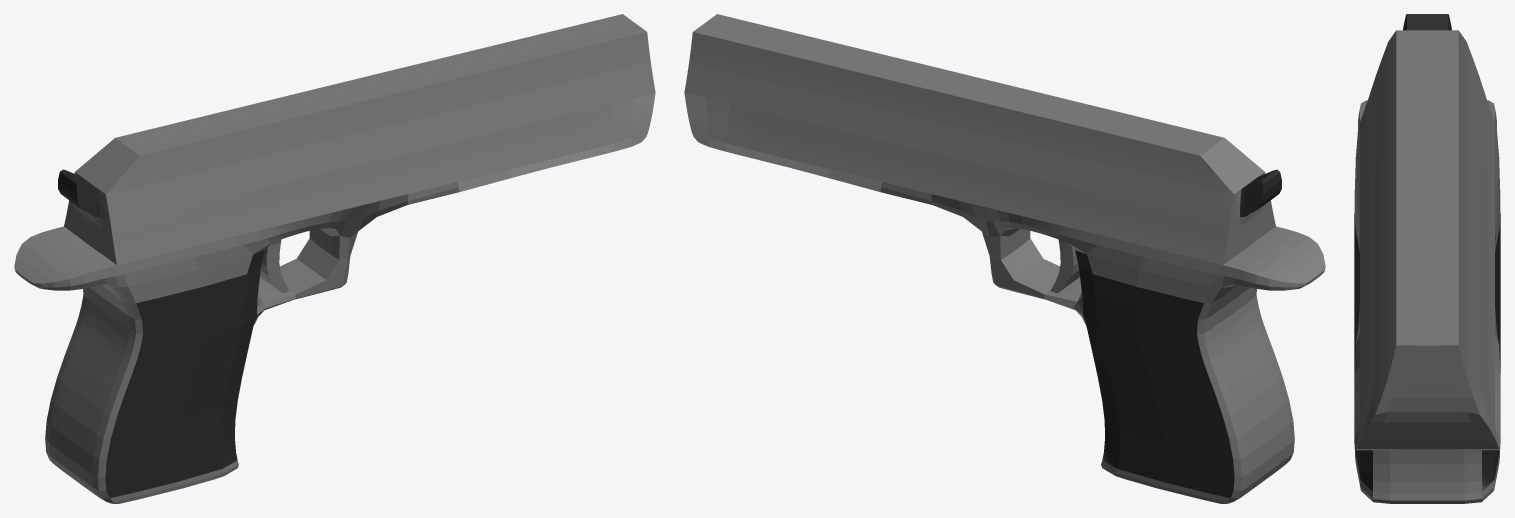
Rendered from deagle.fbx.
3 views of the same model, side by side, from view 1: azimuth 30°, elevation 25°; view 2: azimuth 150°, elevation 25°; view 3: azimuth 270°, elevation 25° (orthographic). The views are drawn at different scales.
Visible parts, largest first — view 1: Cube; view 2: Cube; view 3: Cube.
Part boxes in pixels (left/top/right/bottom): Cube: left=14, top=14, right=655, bottom=503; Cube: left=684, top=14, right=1325, bottom=503; Cube: left=1354, top=14, right=1500, bottom=503.
Bounding box in the file's own units: 454 × 235 × 73.93.
